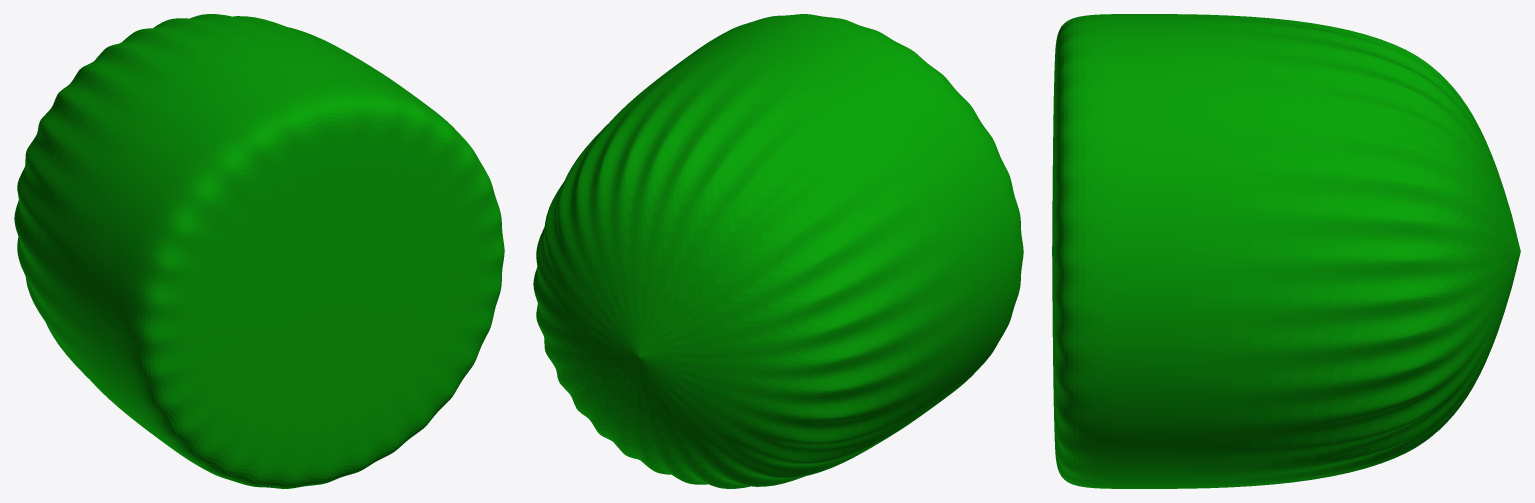
The model's file is round.fbx.
3 renders of one model, left to right at view 1: azimuth 30°, elevation 25°; view 2: azimuth 150°, elevation 25°; view 3: azimuth 270°, elevation 25°, orthographic. The views are drawn at different scales.
Visible parts, largest first — view 1: execute; view 2: execute; view 3: execute.
Part boxes in pixels (x1,y1,x2,y2): execute: (14, 14, 504, 488); execute: (533, 14, 1023, 488); execute: (1052, 14, 1520, 488).
Bounding box in the file's own units: 22.06 × 22.06 × 21.77.
